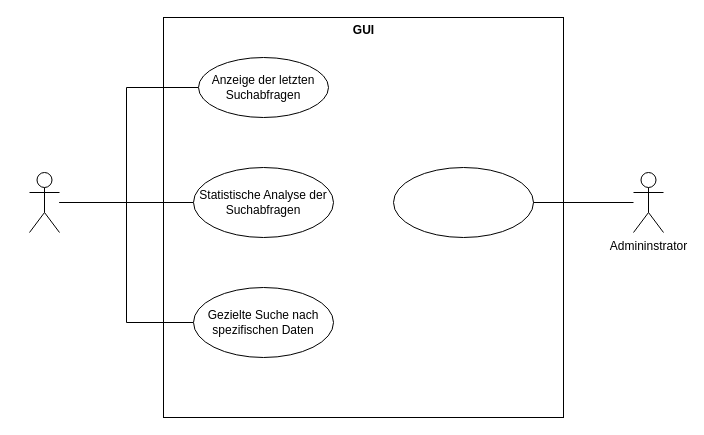
The diagram is 704 pixels wide and 435 high, and some of its shapes have lost their labels. Each missing label, with the centre of its shape:
Endnutzer: [44,202]
Verwaltung und Überwachung der Datenabfragen: [463,202]
